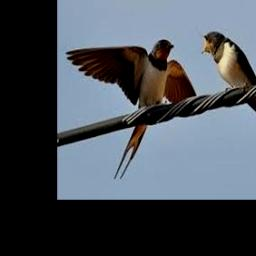Swallow: (66, 39, 198, 179), (202, 33, 256, 126)
